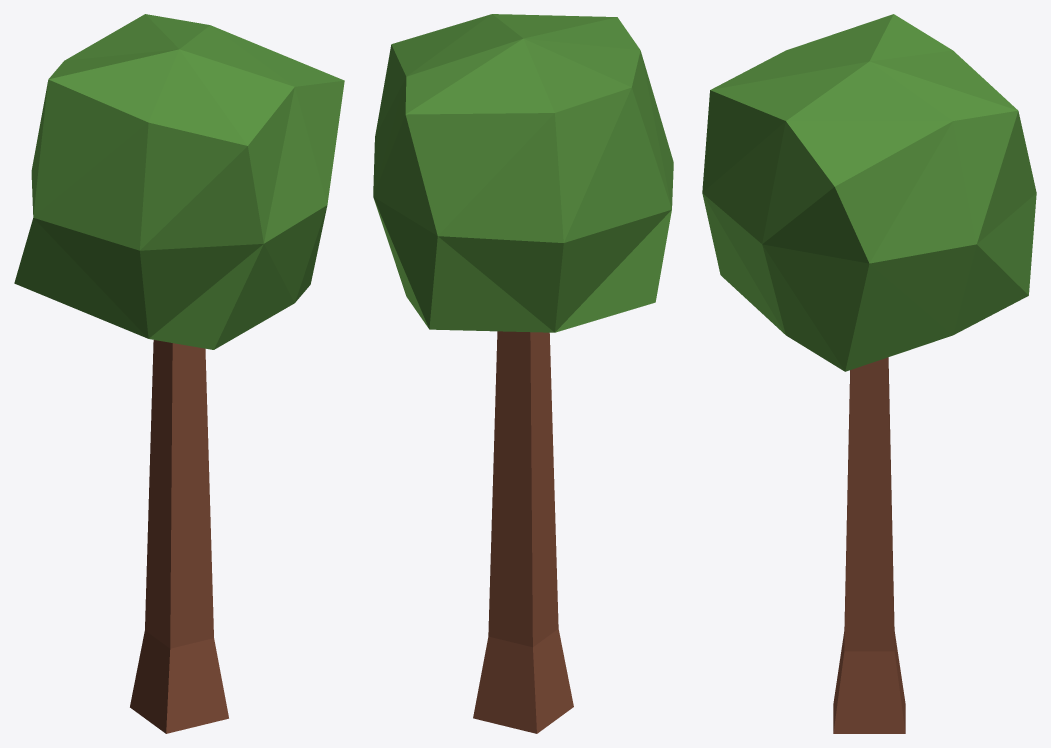
Rendered from Tree_42_summer_mat.fbx.
The picture shows the model from 3 angles, left to right: view 1: azimuth 30°, elevation 25°; view 2: azimuth 150°, elevation 25°; view 3: azimuth 270°, elevation 25°; orthographic projection. The views are drawn at different scales.
Visible parts, largest first — view 1: Tree_42_summer_mat; view 2: Tree_42_summer_mat; view 3: Tree_42_summer_mat.
Boxes of the visible parts, box(x1,y1,x2,y2) form: Tree_42_summer_mat: box(14, 14, 344, 733); Tree_42_summer_mat: box(373, 14, 673, 733); Tree_42_summer_mat: box(702, 14, 1036, 733).
Bounding box in the file's own units: 98.78 × 212 × 97.79.
